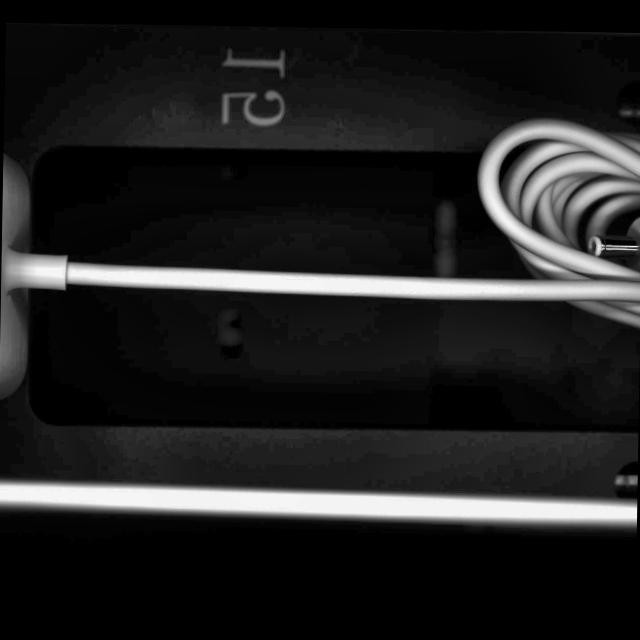Cable: (0, 106, 640, 425)
